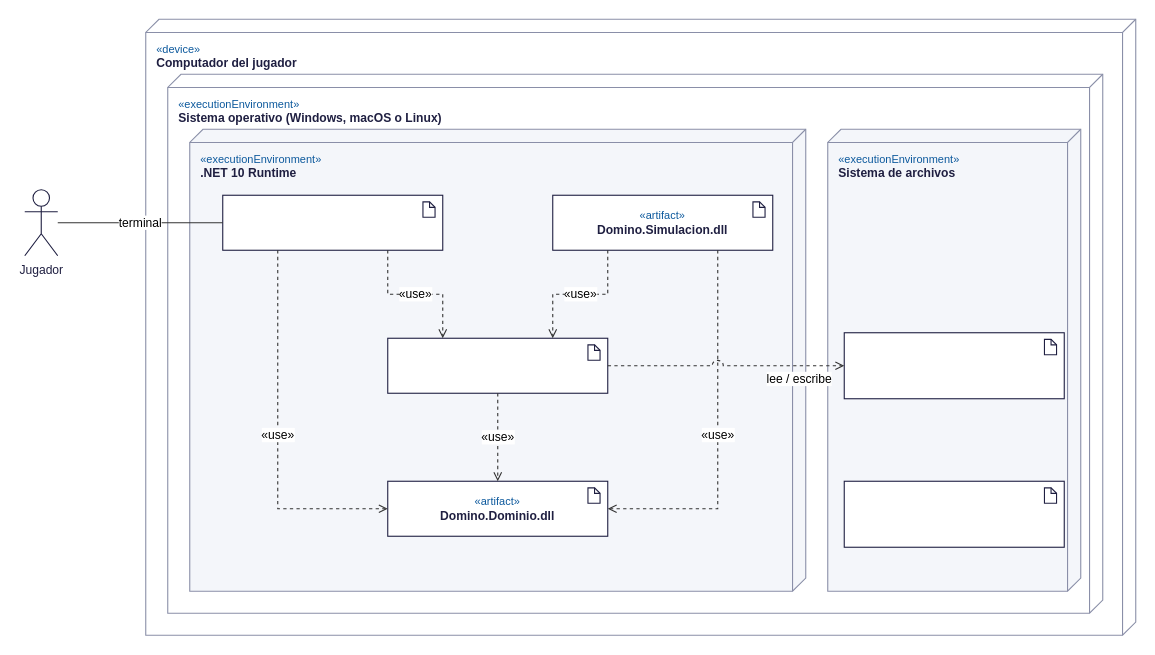
Image size: 1155x655. Some labels were removed from this diagram. Each missing label, with the centre of its shape:
«artifact» *.nettrace medición con dotnet-trace: the point at 953,513
«artifact» <nombre>.json DominoPatrones/partidas: the point at 953,365
«artifact» Domino.Consola.dll: the point at 332,222
«artifact» Domino.Persistencia.dll: the point at 497,365
